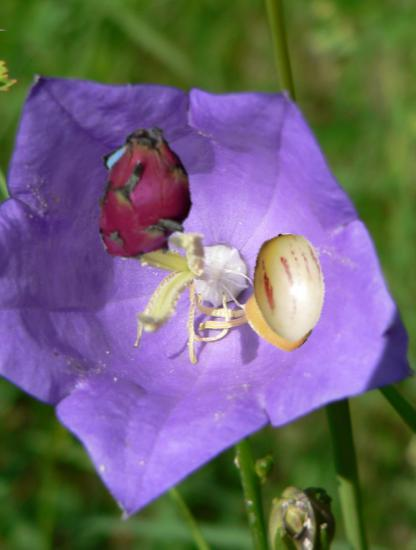Kumquats: (242, 279, 317, 354)
Pepino: (233, 233, 345, 345)
Pitahaya: (72, 123, 214, 265)
